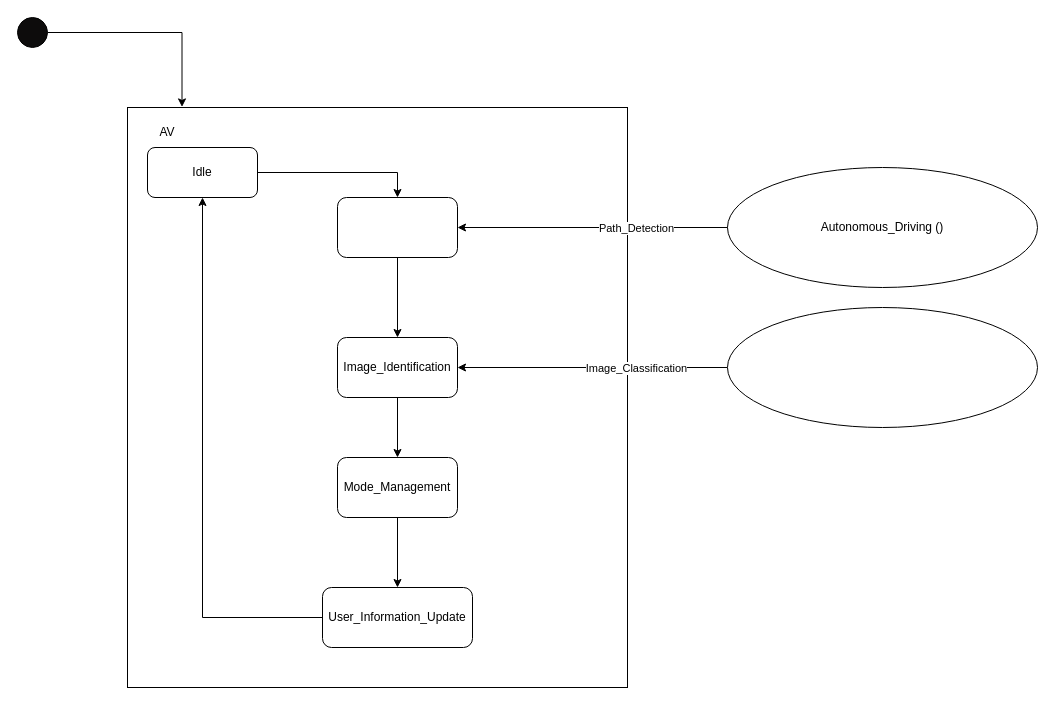
This 1055x705 diagram has some shape labels left out. Here are the shapes that lost their labels. From the top down, the centre of each, then its label:
At (397,227): "Vehicle_Driving".
At (882,367): "Image_Classification()".
